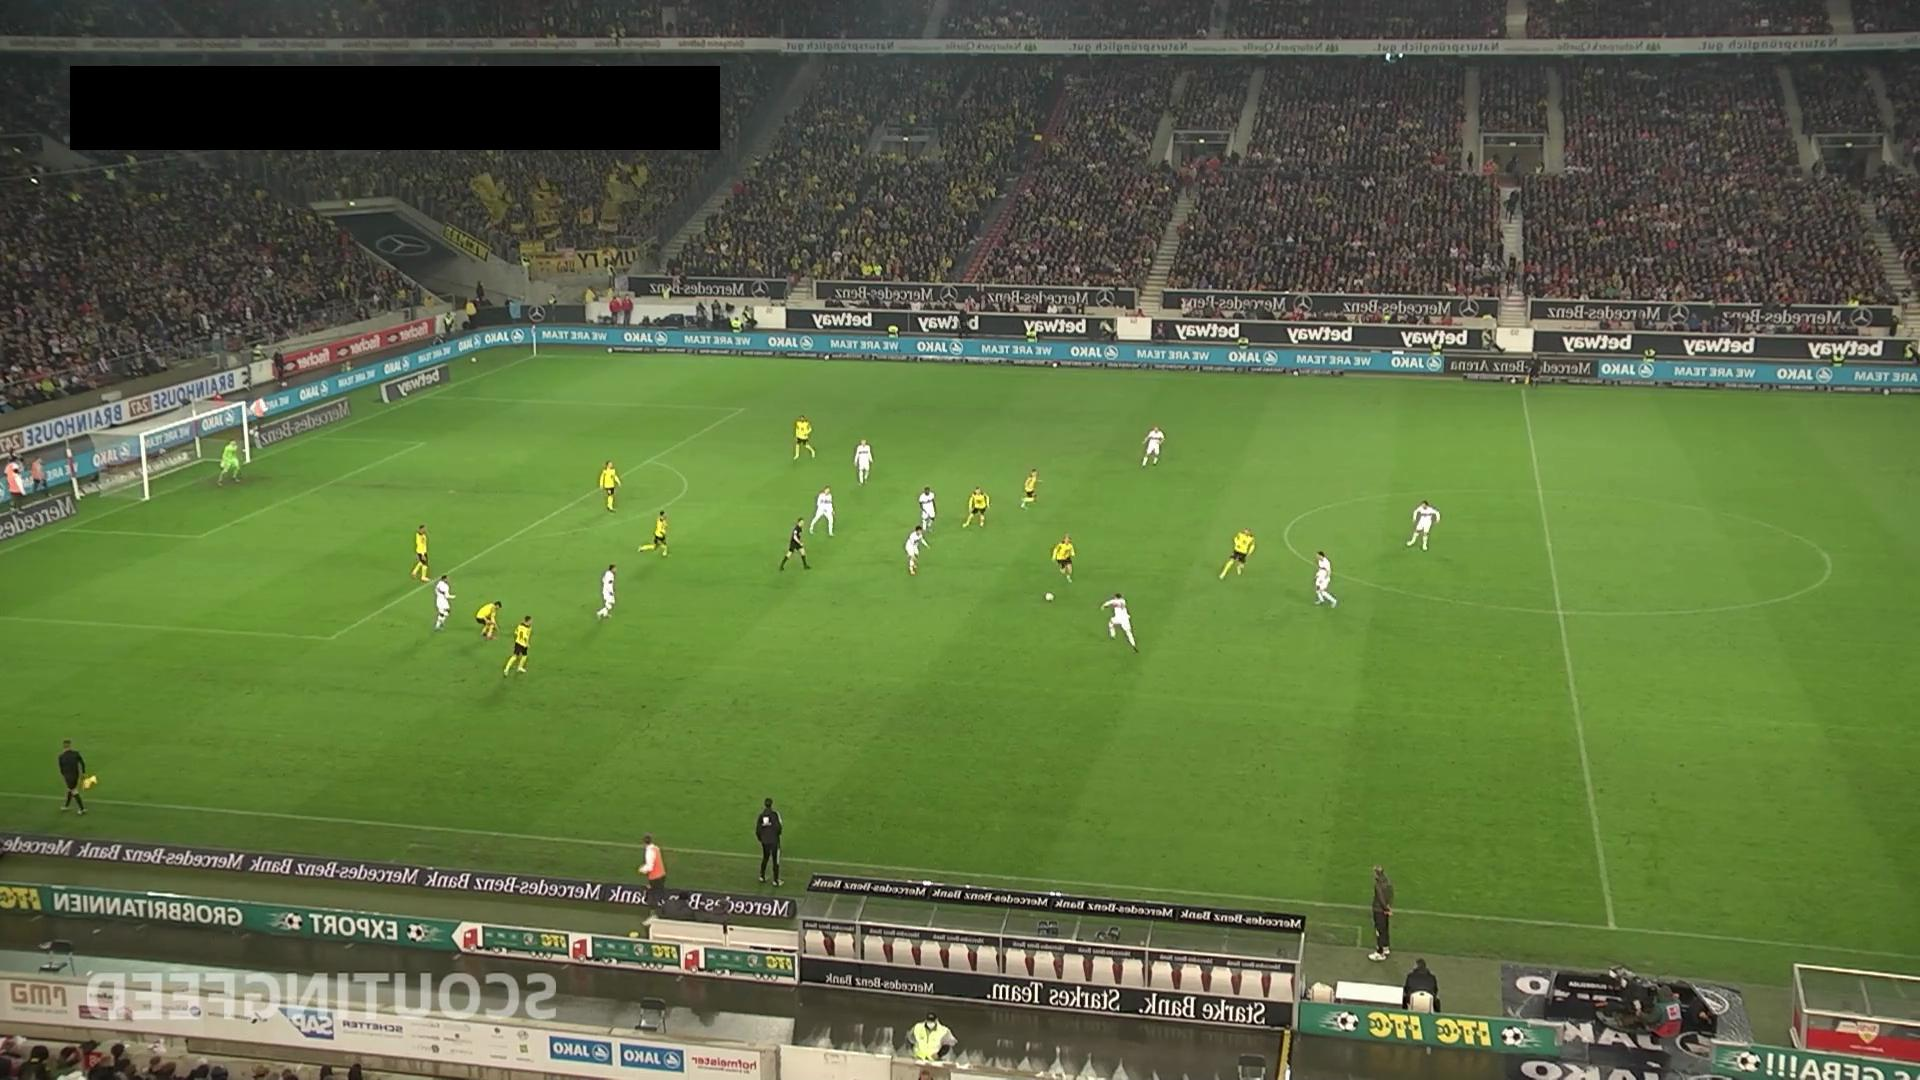ball: (1044, 591, 1055, 602)
goalkeeper: (216, 439, 243, 486)
player: (1099, 591, 1139, 653), (502, 614, 534, 678), (1218, 527, 1256, 580), (1404, 498, 1441, 551), (1313, 550, 1338, 607), (809, 485, 836, 537), (904, 524, 931, 576), (1051, 534, 1076, 584), (596, 563, 617, 622), (643, 509, 669, 556), (410, 524, 431, 582), (433, 573, 454, 631), (962, 484, 989, 529), (792, 413, 816, 461), (476, 599, 503, 640), (600, 460, 621, 512), (1141, 425, 1165, 467), (853, 439, 873, 485), (918, 485, 937, 532), (1020, 468, 1041, 510)
referee: (57, 738, 98, 818), (779, 517, 812, 572), (1523, 350, 1542, 389)
